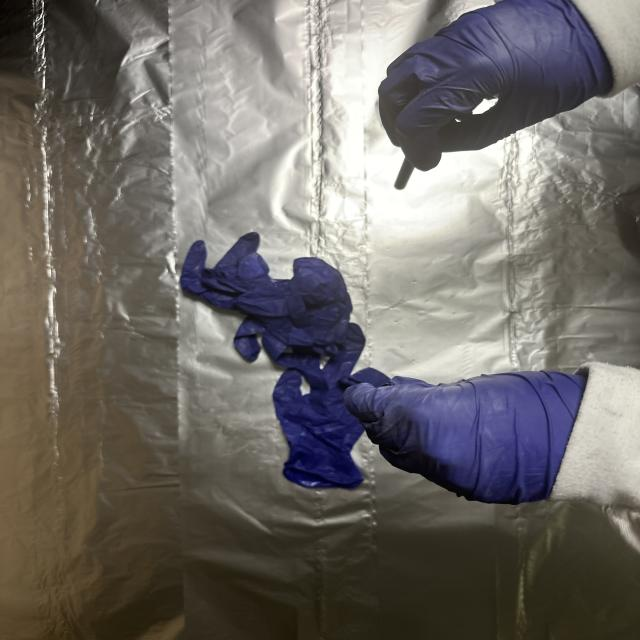gloves_contaminated: (379, 0, 613, 170), (345, 372, 586, 504)
